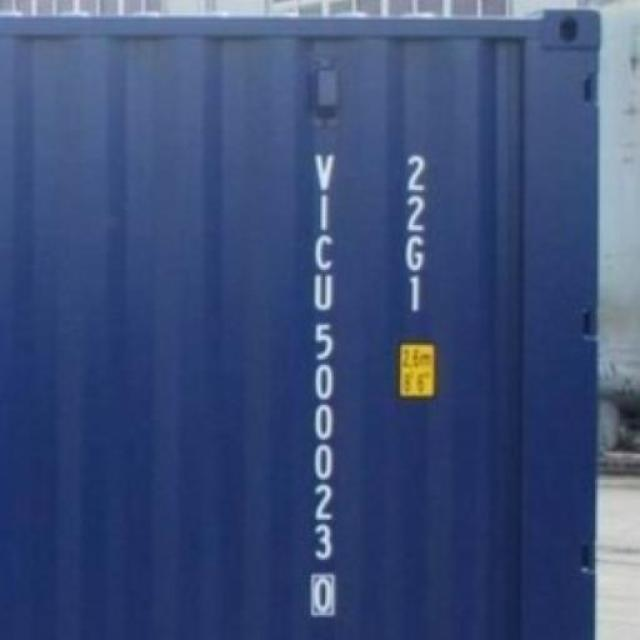ISO: (384, 144, 432, 316)
container_number: (299, 151, 344, 614)
